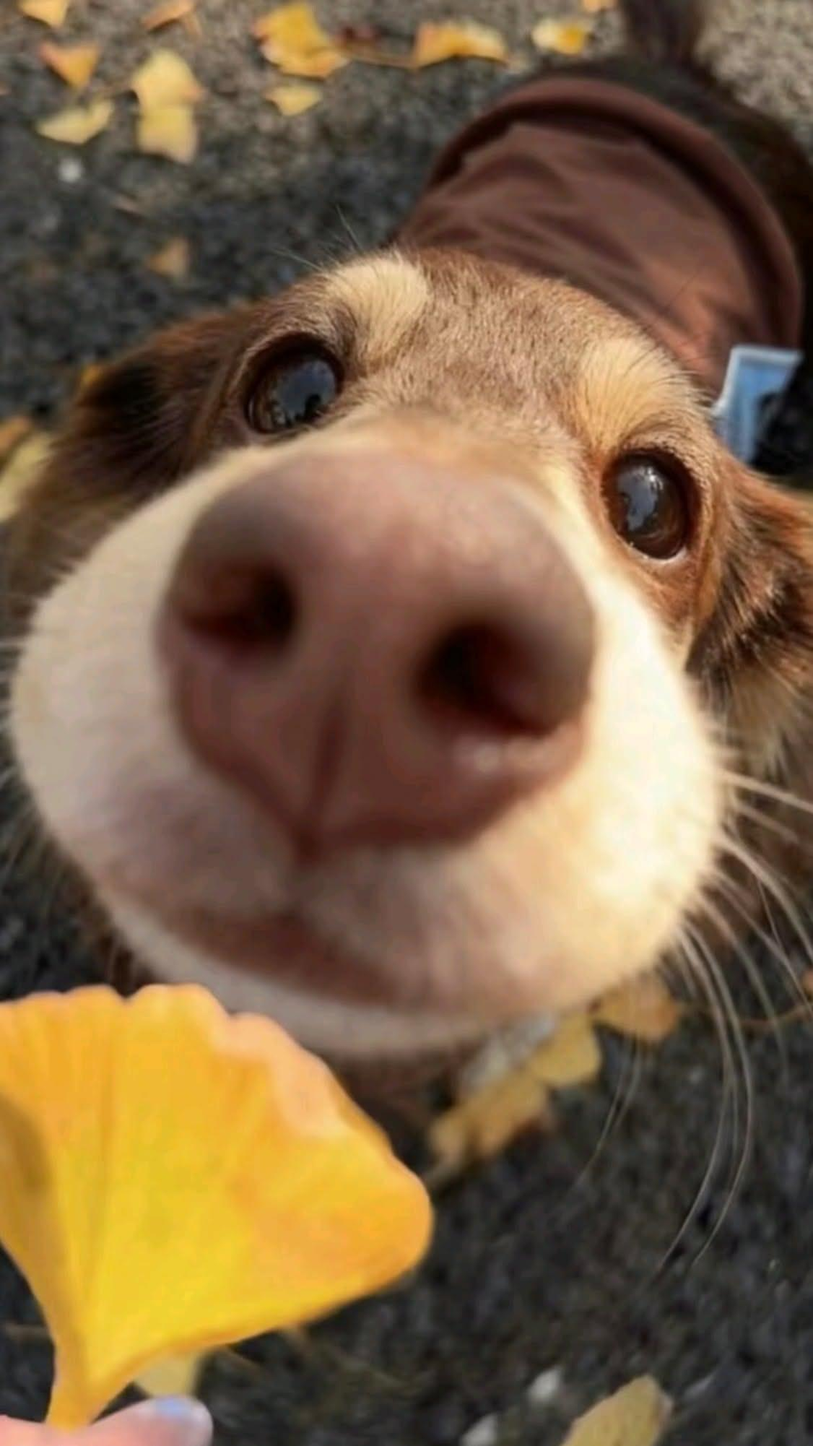adult_dog: (0, 2, 813, 1216)
